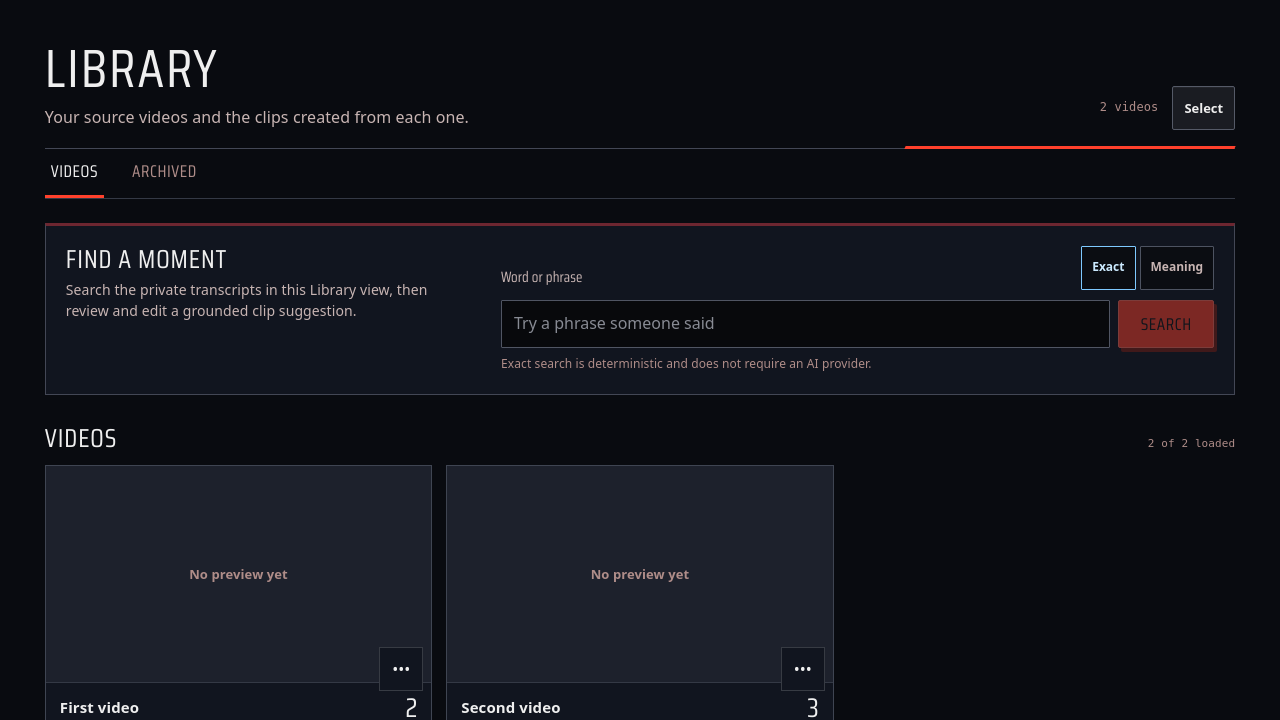
Scenario: Library video actions › keeps failed bulk deletions selected so they can be retried
Expected: the heading "First video" is shown, [60,697,139,717]
Click the button with aria-label "Select videos". click: {"x": 1204, "y": 108}
box: [1172,86,1235,130]
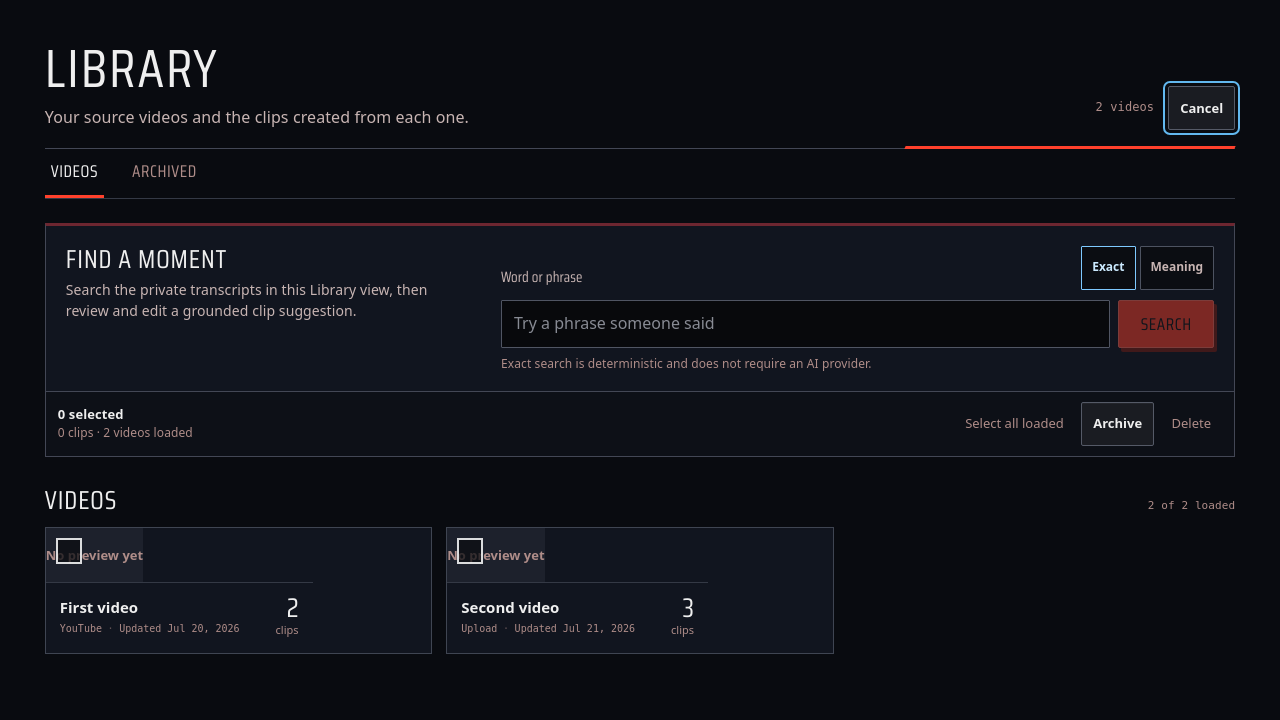
Click the button "Select all loaded". click: {"x": 1015, "y": 424}
box: [954,402,1075,446]
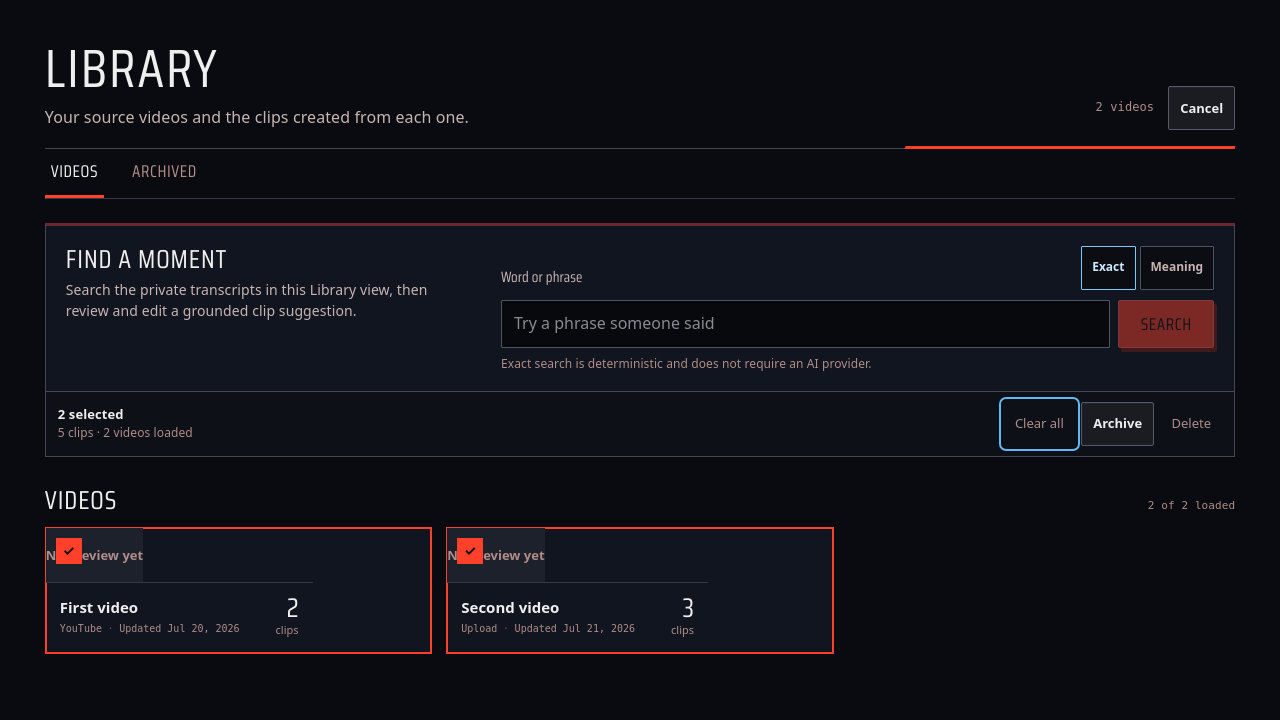
Click the button with aria-label "Delete selected". click: {"x": 1191, "y": 424}
box: [1160,402,1222,446]
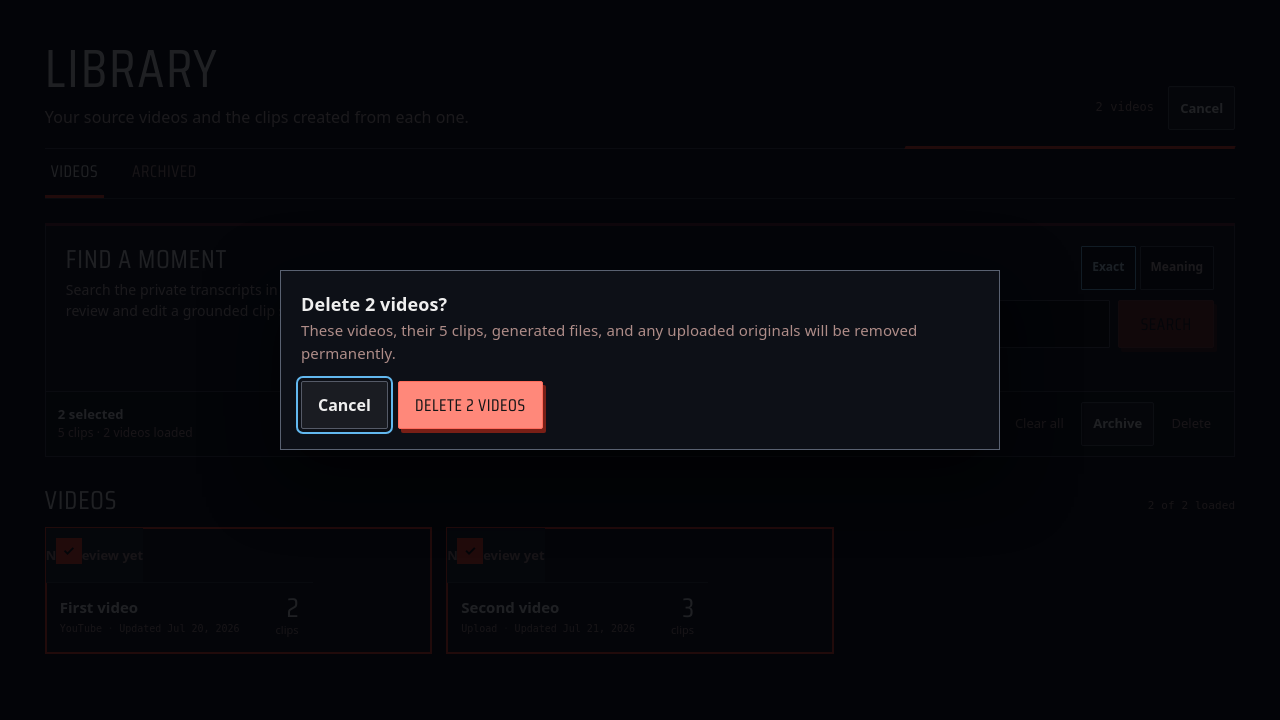
Click the button "Delete 2 videos". click: {"x": 470, "y": 405}
box: [398,381,542,429]
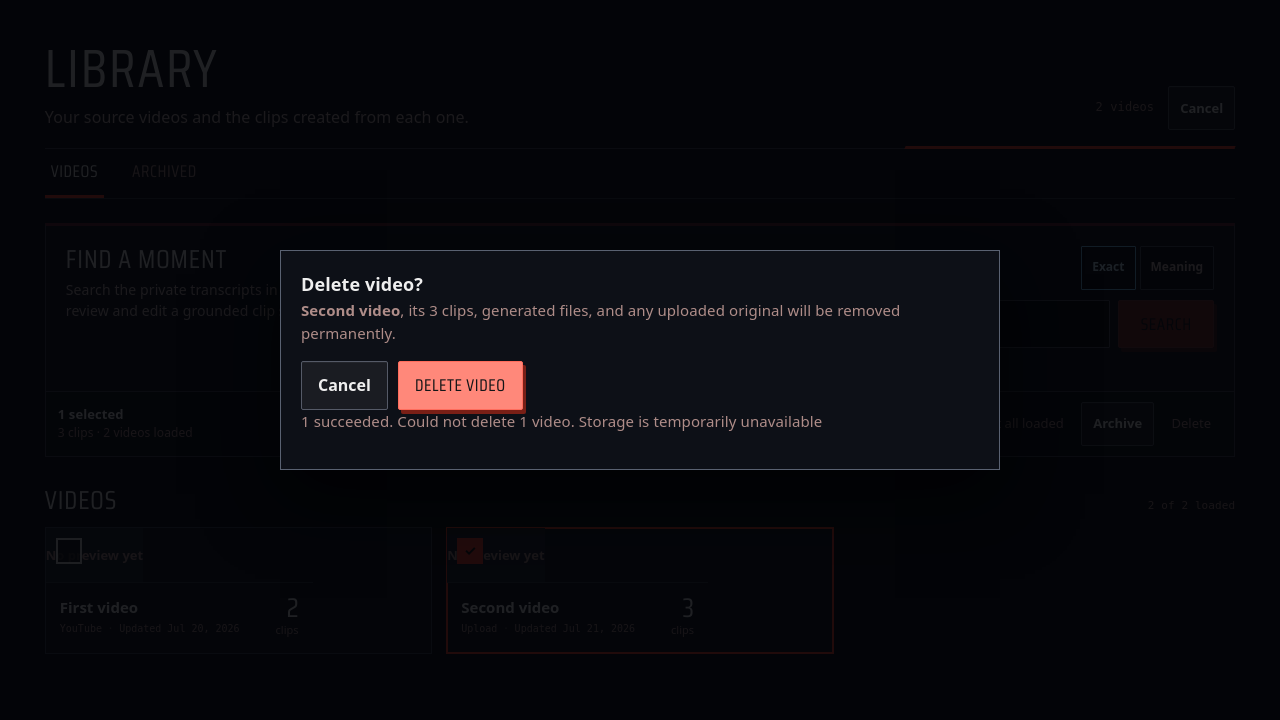
Now the heading "Delete video?" is shown, box [301,272,423,296]
Now the message shows "1 succeeded. Could not delete 1 video.", box [301,411,822,431]
Now the button "Delete video" is shown, box [398,361,522,410]
